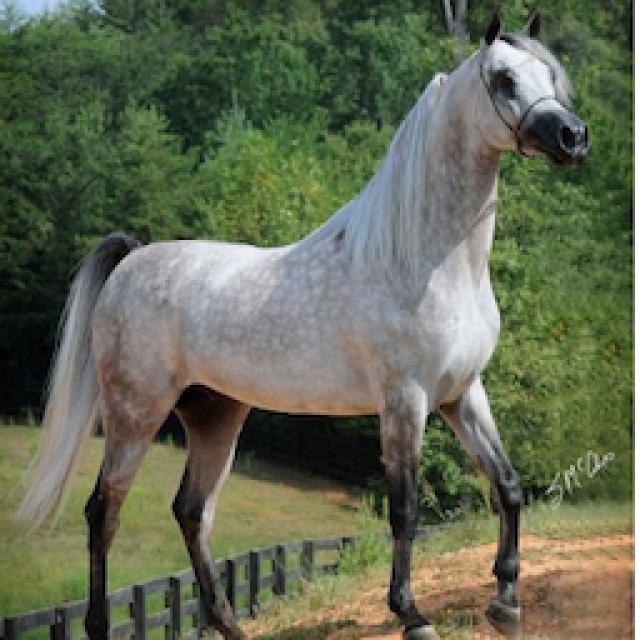Horse: (7, 5, 595, 638)
